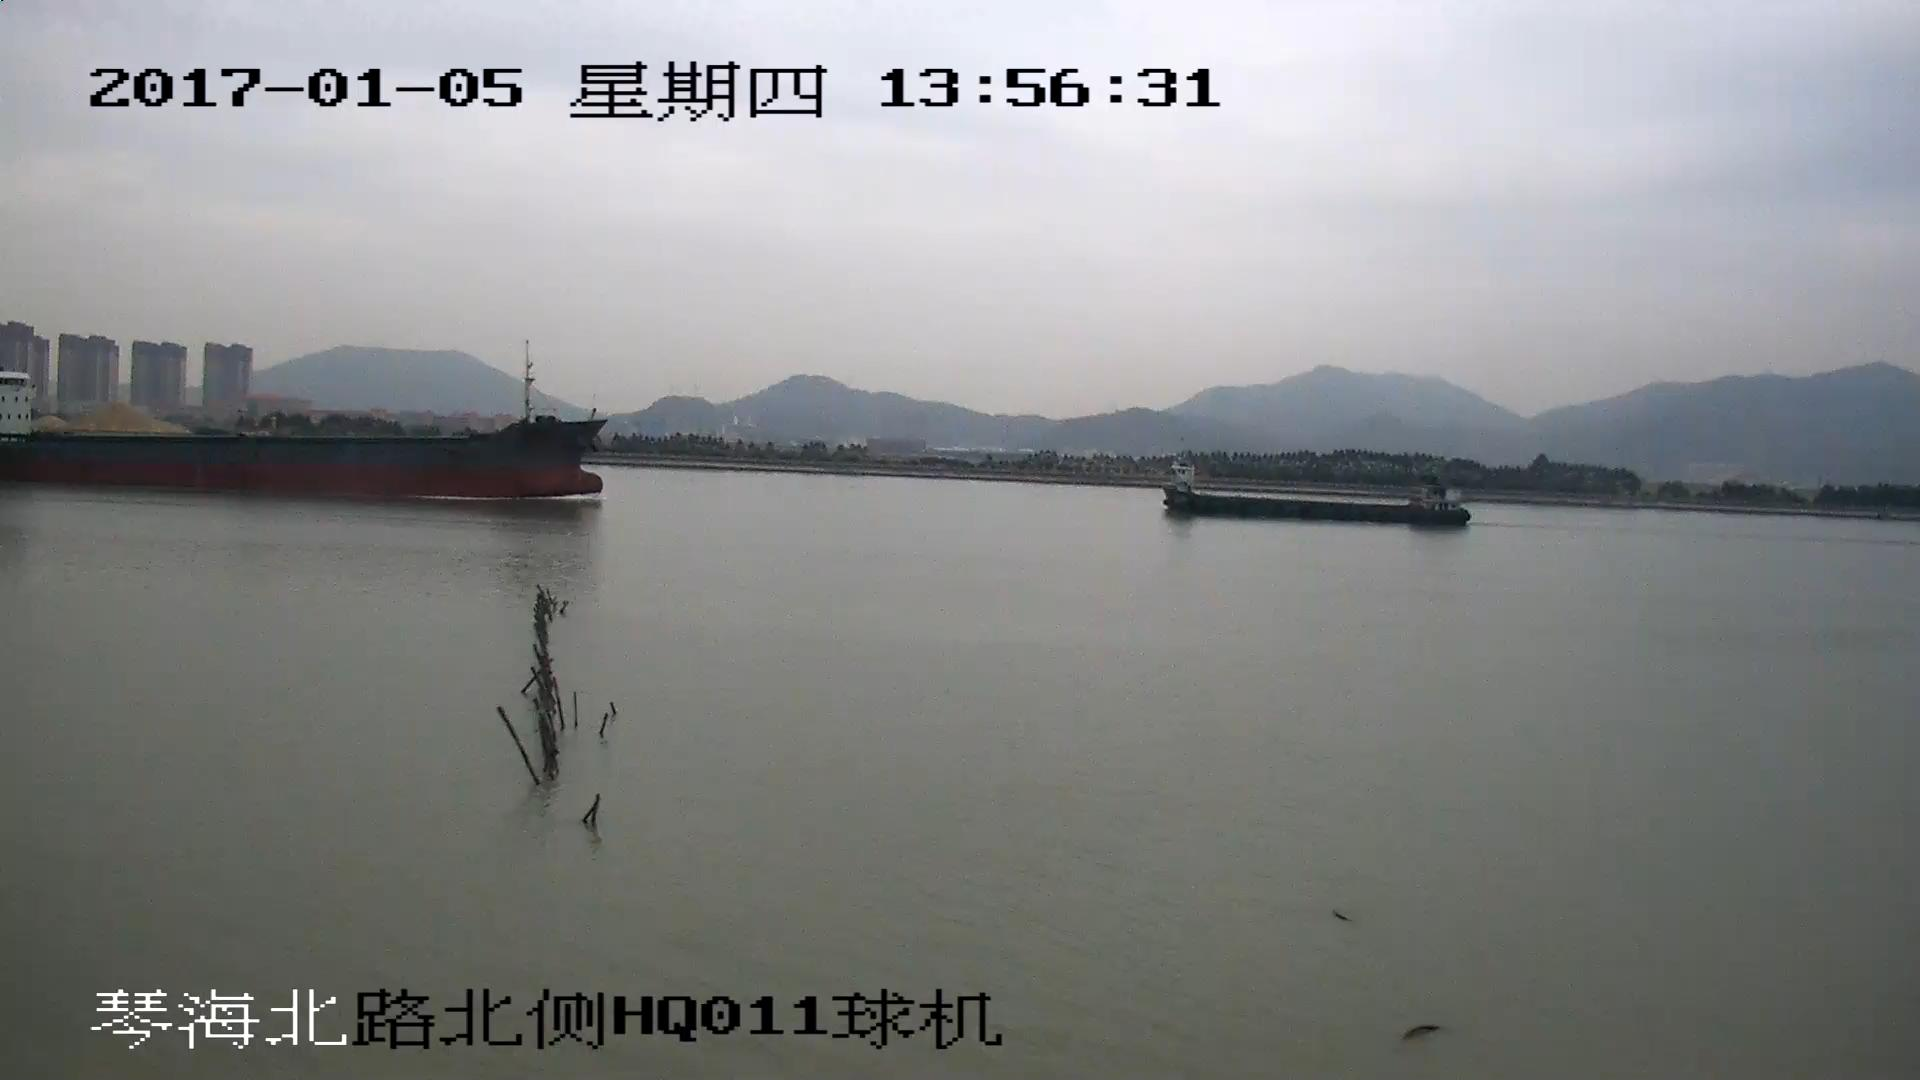general cargo ship: (1, 370, 606, 500), (1165, 463, 1472, 530)
